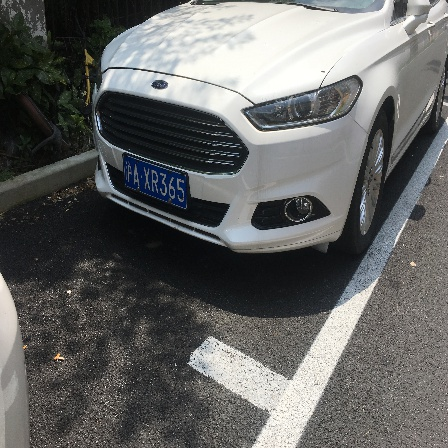plate: (121, 152, 189, 208)
